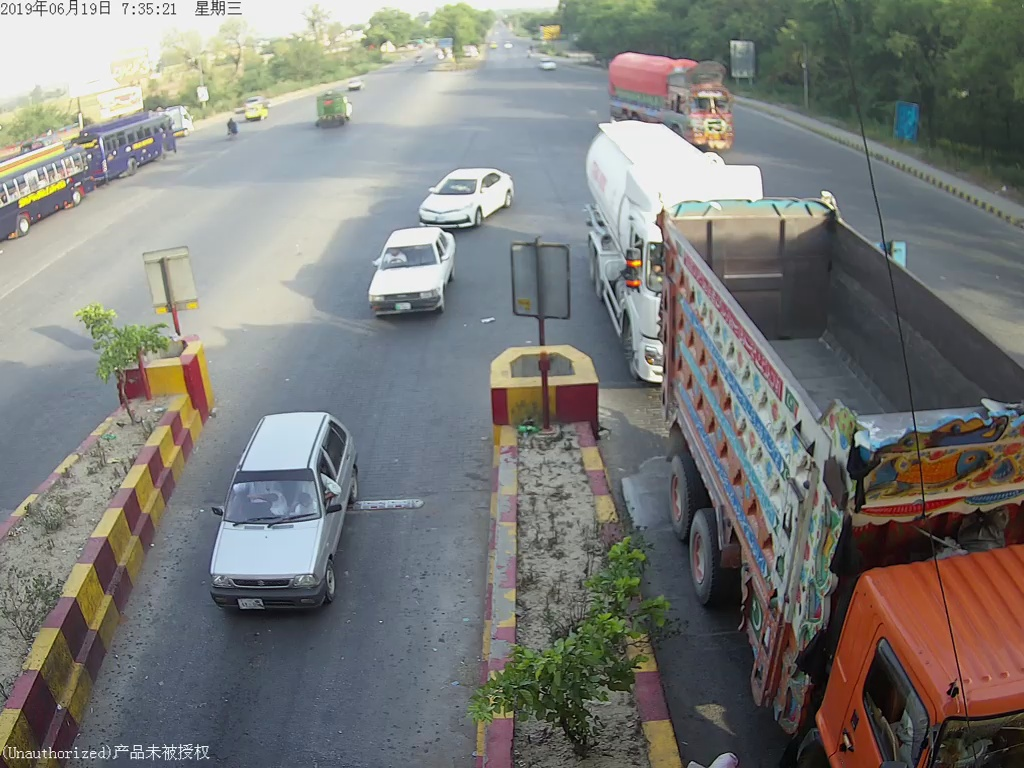Cat-1: (210, 408, 366, 608), (358, 237, 451, 308), (419, 157, 514, 225)
